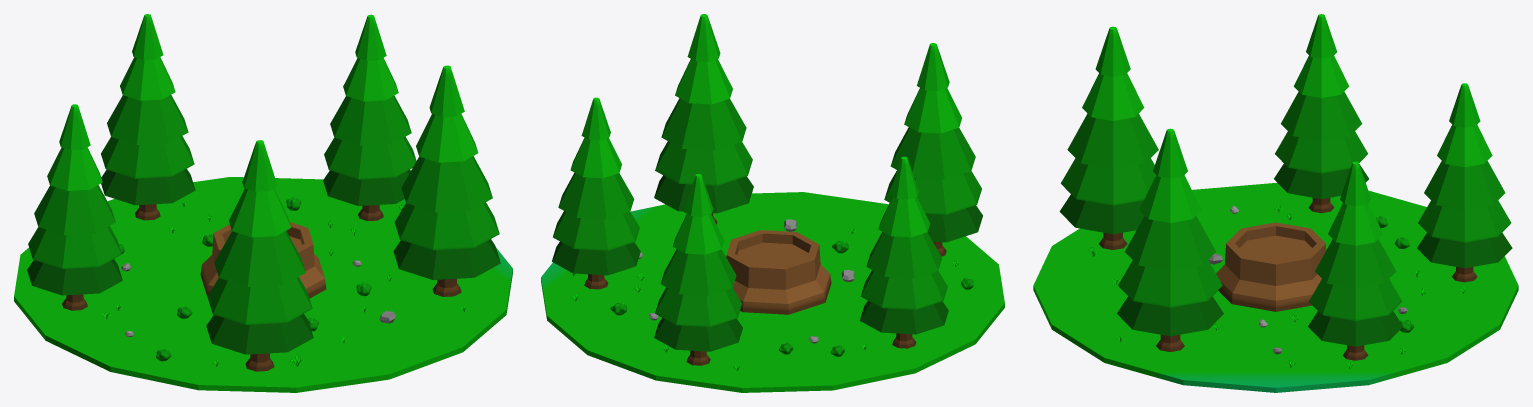
Rendered from Tempat Crystal.fbx.
3 renders of one model, left to right at view 1: azimuth 30°, elevation 25°; view 2: azimuth 150°, elevation 25°; view 3: azimuth 270°, elevation 25°, orthographic. The views are drawn at different scales.
Parts seen in each view (by area): view 1: Base Cover; view 2: Base Cover; view 3: Base Cover.
Boxes of the visible parts, bbox=[...] form: Base Cover: bbox=[14, 14, 512, 392]; Base Cover: bbox=[541, 14, 1004, 392]; Base Cover: bbox=[1033, 14, 1518, 392].
Size of the model in its own units: 4211 by 2116 by 4211.
